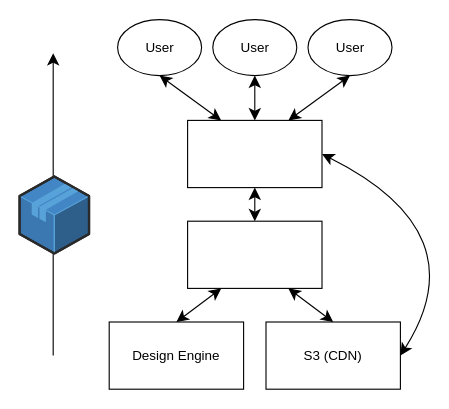
Image size: 449x409. Some labels were removed from this diagram. Each missing label, with the centre of its shape:
FastAPI: pixel 254 254
React: pixel 254 153
